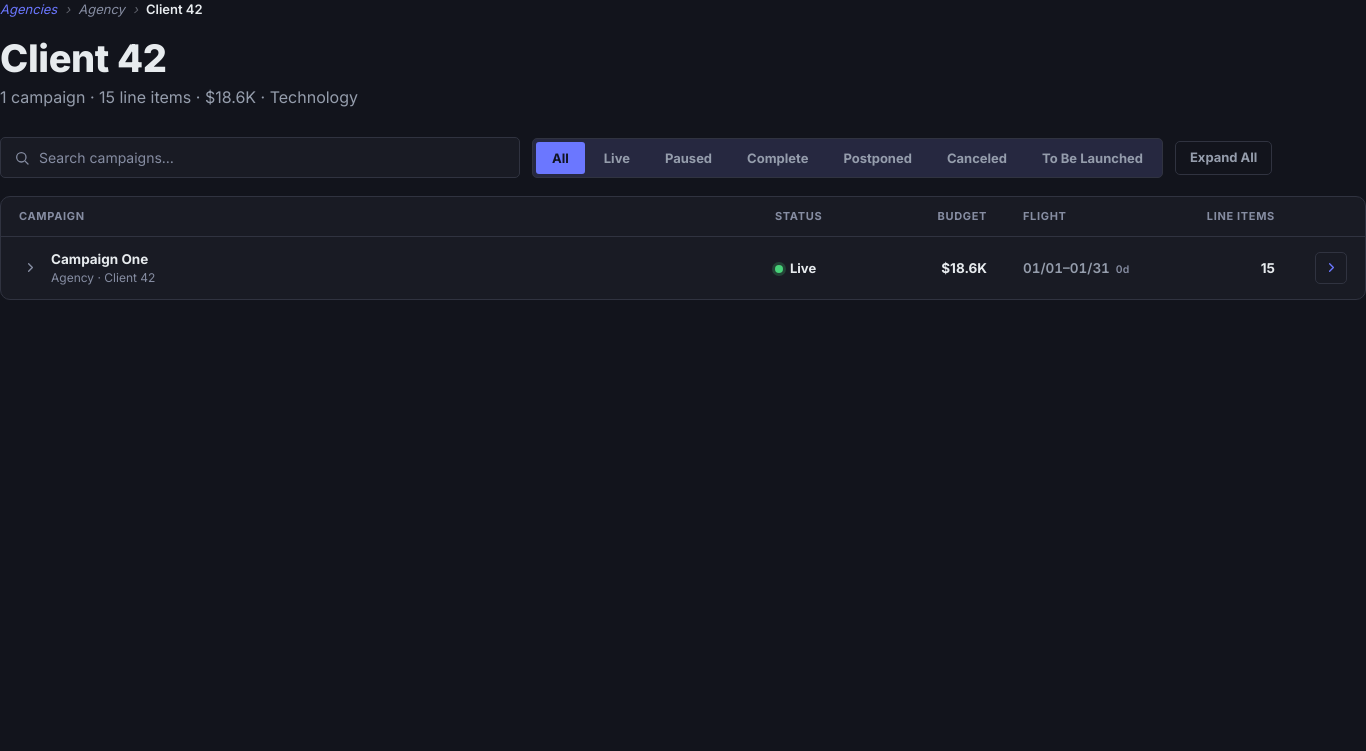
Campaigns › should show the campaign's real line-item count in its row, matching the line items it expands to
The image size is (1366, 751).
expect the cell "15" is shown: met, box [1181,236,1293,299]
Click the button named "Expand Campaign One" at (30, 268), box [19,257,41,279]
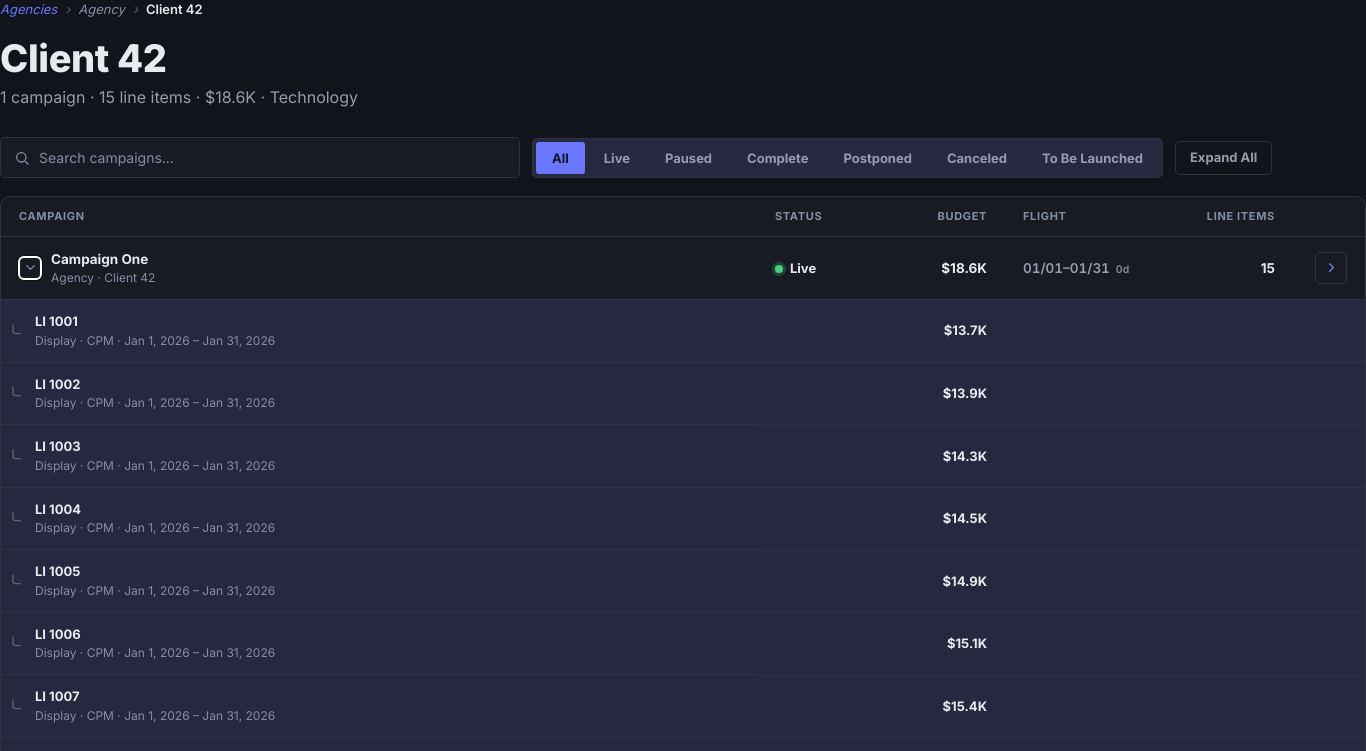
expect the text "LI 1001" is shown: met, box [35,313,78,329]
expect the text "LI 1001" is shown 15 times: met
